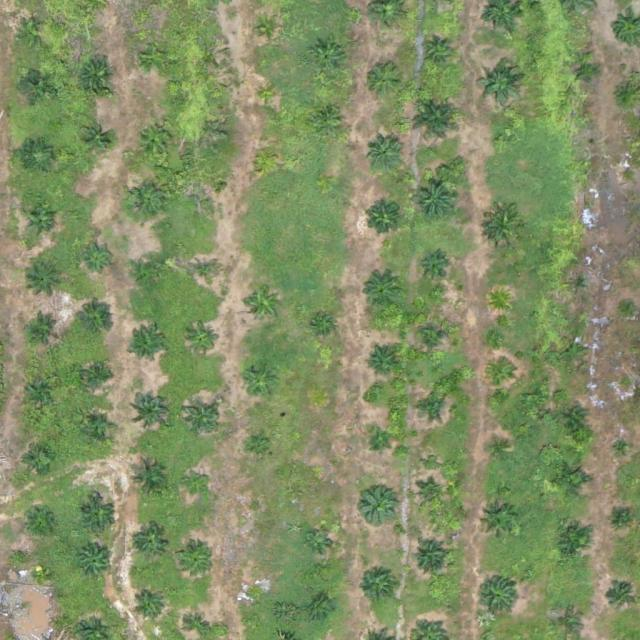Grass: (311, 598, 334, 622)
Healthy: (410, 93, 464, 148)
Small: (477, 62, 524, 110), (412, 175, 459, 222), (365, 134, 405, 174), (125, 180, 165, 220), (244, 285, 284, 325), (359, 564, 398, 604), (184, 399, 223, 439), (131, 388, 170, 428), (240, 362, 279, 402), (79, 496, 119, 535), (363, 61, 403, 100), (364, 198, 403, 238), (485, 207, 524, 247), (411, 537, 450, 577), (479, 502, 518, 542), (478, 577, 517, 617), (76, 304, 115, 344), (129, 328, 168, 367), (358, 485, 397, 524), (129, 461, 168, 500), (77, 546, 116, 585), (362, 272, 401, 311), (554, 523, 593, 562), (27, 261, 66, 300), (78, 57, 117, 96), (137, 120, 176, 159), (310, 40, 349, 79), (554, 461, 593, 500), (188, 324, 219, 356), (366, 347, 397, 379), (414, 391, 445, 423), (23, 141, 54, 173), (22, 67, 53, 99), (571, 56, 602, 88), (605, 581, 636, 613), (81, 123, 112, 155), (190, 257, 221, 289), (135, 256, 166, 288), (84, 242, 115, 274), (26, 206, 57, 238), (25, 504, 56, 535), (24, 444, 55, 475), (138, 526, 169, 557), (181, 546, 212, 577), (416, 254, 447, 285), (312, 103, 343, 134), (415, 481, 446, 512), (417, 325, 448, 356), (141, 43, 172, 74), (18, 18, 49, 49), (83, 360, 114, 391), (84, 413, 115, 444), (25, 373, 56, 404), (28, 313, 59, 344), (135, 591, 166, 622), (422, 36, 452, 68), (552, 610, 583, 640), (489, 289, 513, 313), (612, 437, 636, 461), (565, 407, 589, 431), (490, 365, 514, 389), (489, 440, 513, 464), (562, 339, 586, 363), (256, 17, 280, 41), (257, 84, 281, 108), (255, 147, 279, 171), (312, 316, 336, 340), (184, 474, 208, 498), (245, 588, 269, 612), (187, 614, 211, 638), (568, 273, 591, 297), (369, 430, 392, 454), (197, 179, 220, 203), (249, 434, 272, 457), (308, 528, 331, 551), (619, 167, 635, 183), (621, 298, 637, 313), (495, 134, 510, 150), (614, 510, 629, 526), (32, 567, 48, 582)
